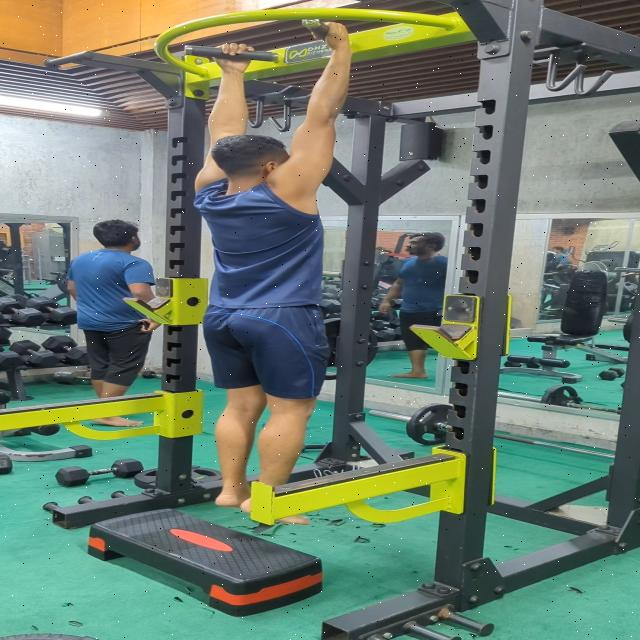Normal_PullUps: (183, 18, 358, 529)
